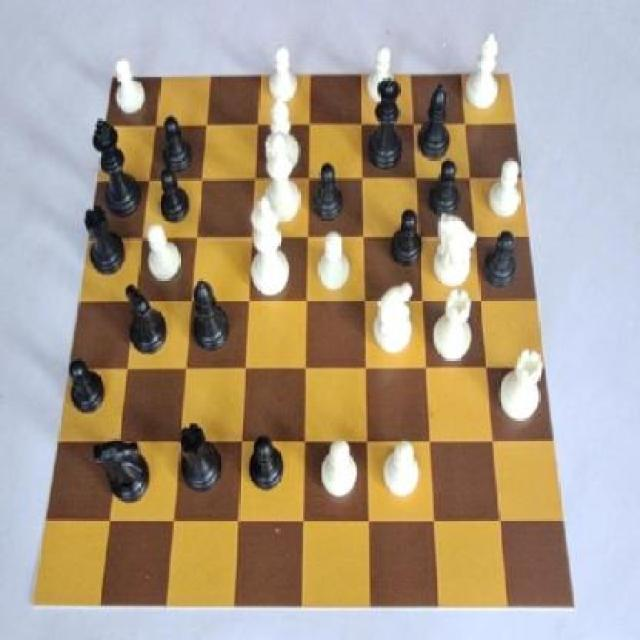bishop: (181, 274, 234, 357), (414, 80, 460, 175)
black-bishop: (86, 108, 145, 226)
black-king: (91, 426, 157, 510), (120, 270, 171, 364)
black-knight: (242, 421, 292, 504), (382, 200, 426, 278), (66, 350, 111, 424), (309, 151, 350, 228), (476, 225, 522, 293), (423, 152, 467, 223), (156, 111, 202, 177), (152, 160, 197, 225)
black-pawn: (363, 66, 409, 177)
black-queen: (170, 408, 226, 498), (81, 203, 130, 282)
black-rook: (260, 96, 305, 180), (463, 30, 505, 116)
white-bishop: (243, 195, 296, 307)
white-king: (371, 278, 419, 362), (431, 203, 476, 290)
white-knight: (140, 214, 188, 298), (104, 46, 154, 122), (377, 431, 421, 512), (485, 152, 532, 225), (362, 39, 406, 116), (309, 224, 357, 294), (318, 428, 361, 504), (265, 40, 302, 111)
white-pawn: (254, 128, 308, 236)
white-queen: (494, 345, 551, 430), (432, 286, 478, 372)
